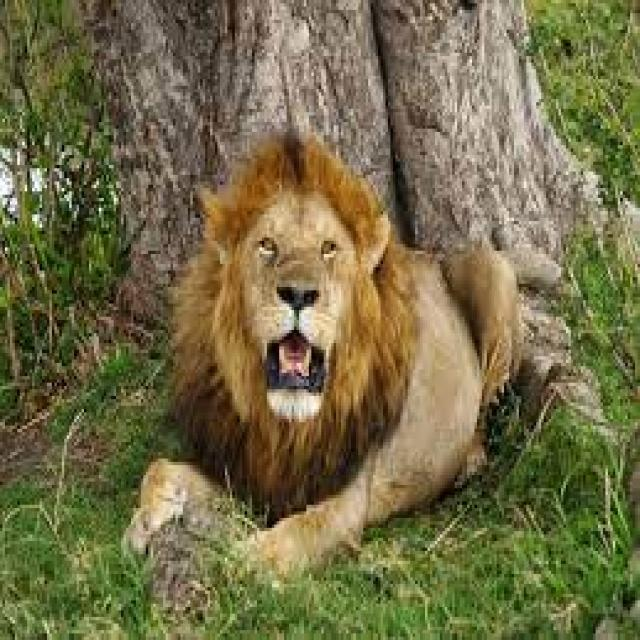Carnivorous: (138, 132, 600, 581)
